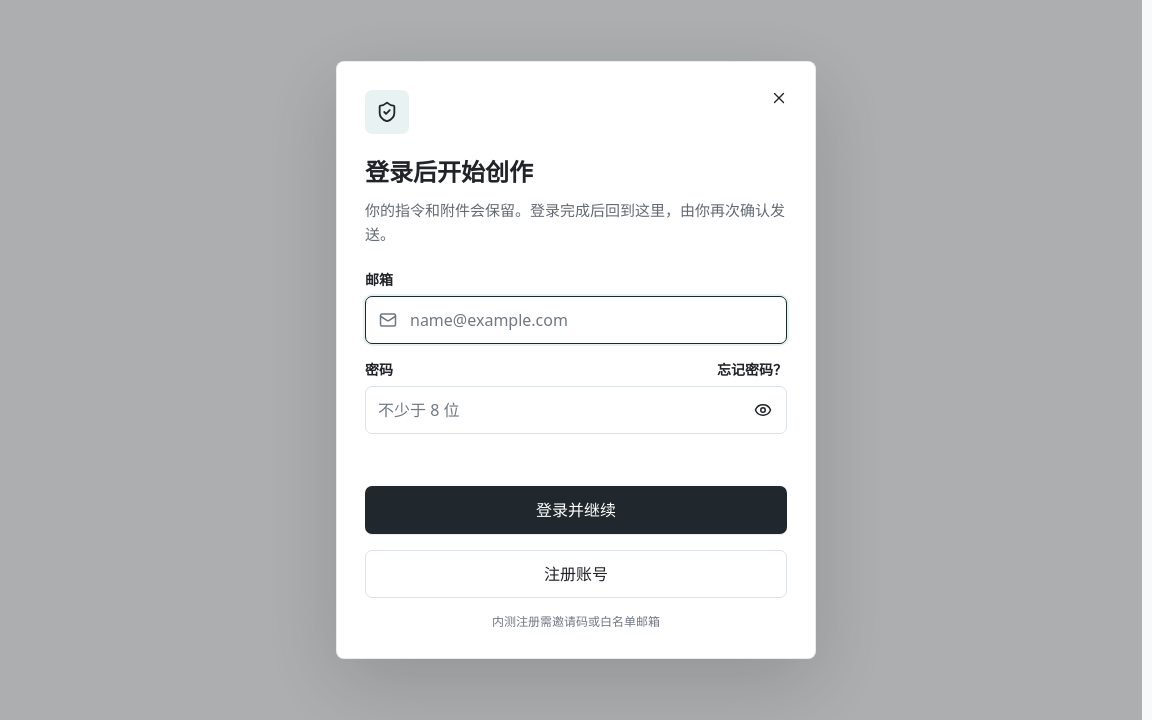
Test: AuthDialog › keeps invalid login errors next to the form and does not authenticate
In the field labelled "邮箱": [576, 320] box x1=365 y1=296 x2=787 y2=344, type "invalid"
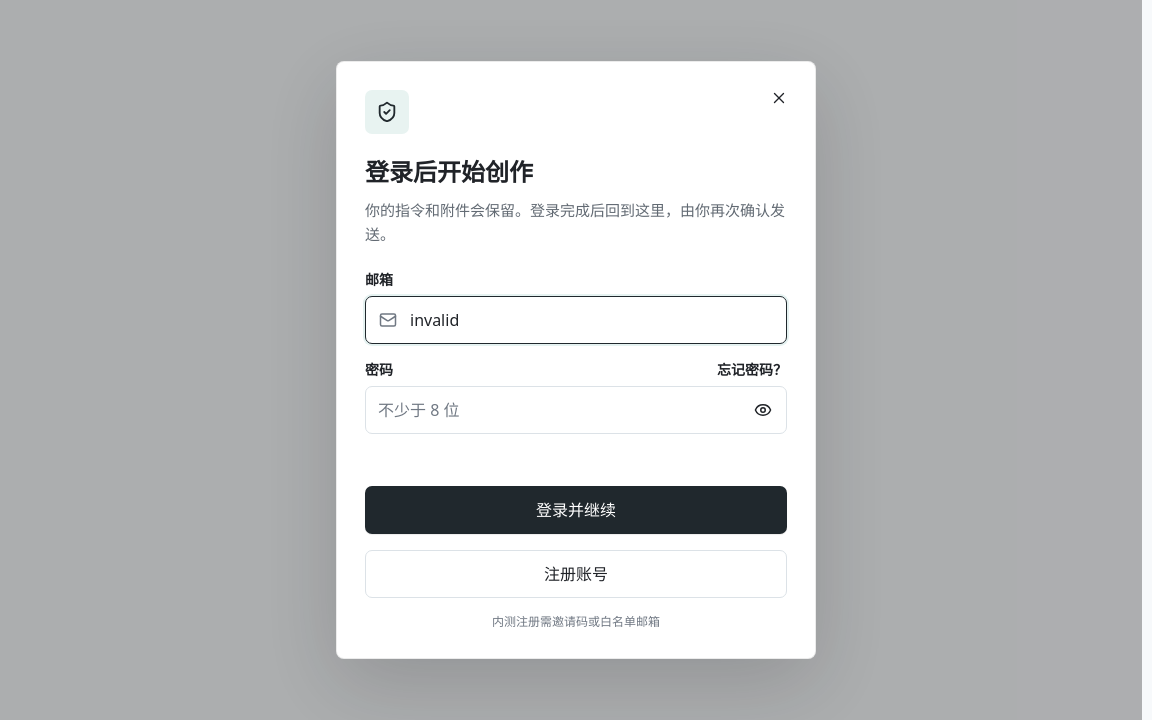
Click the button "登录并继续": [576, 510] box x1=365 y1=486 x2=787 y2=534
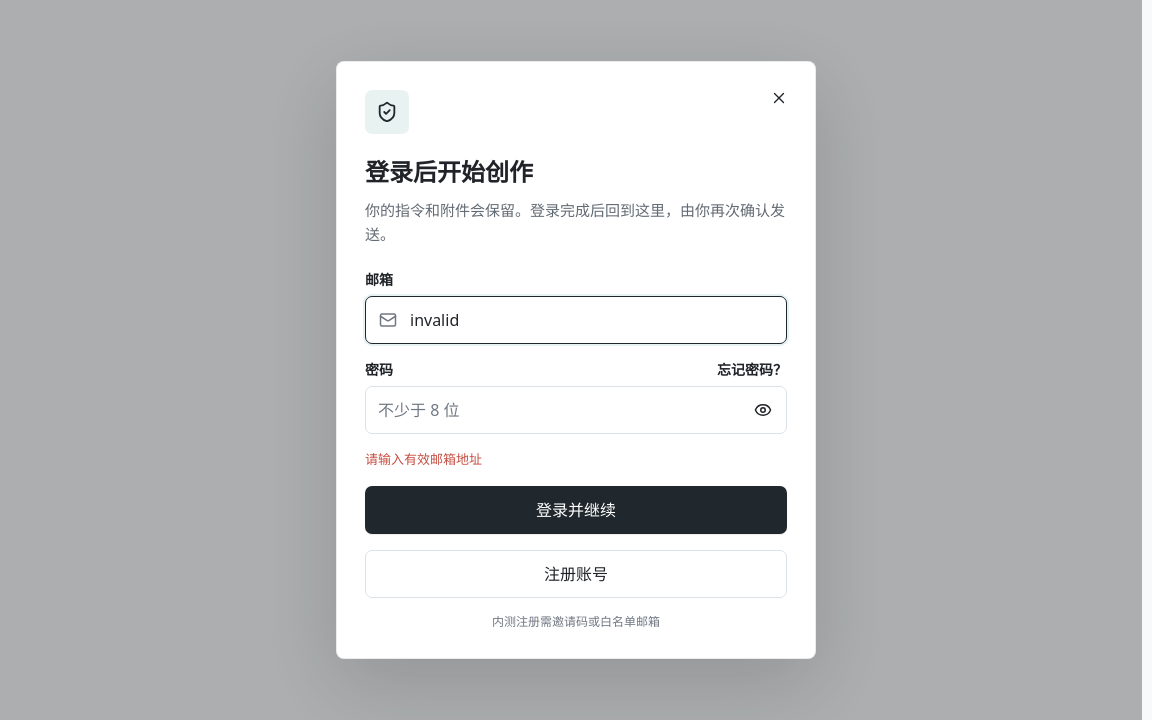
expect the text "请输入有效邮箱地址" is shown: met, box x1=365 y1=450 x2=482 y2=468
